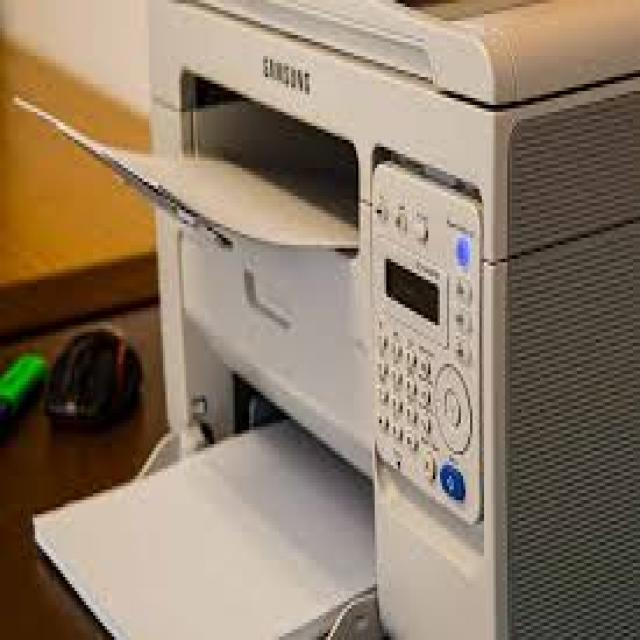printer: (13, 3, 640, 640)
